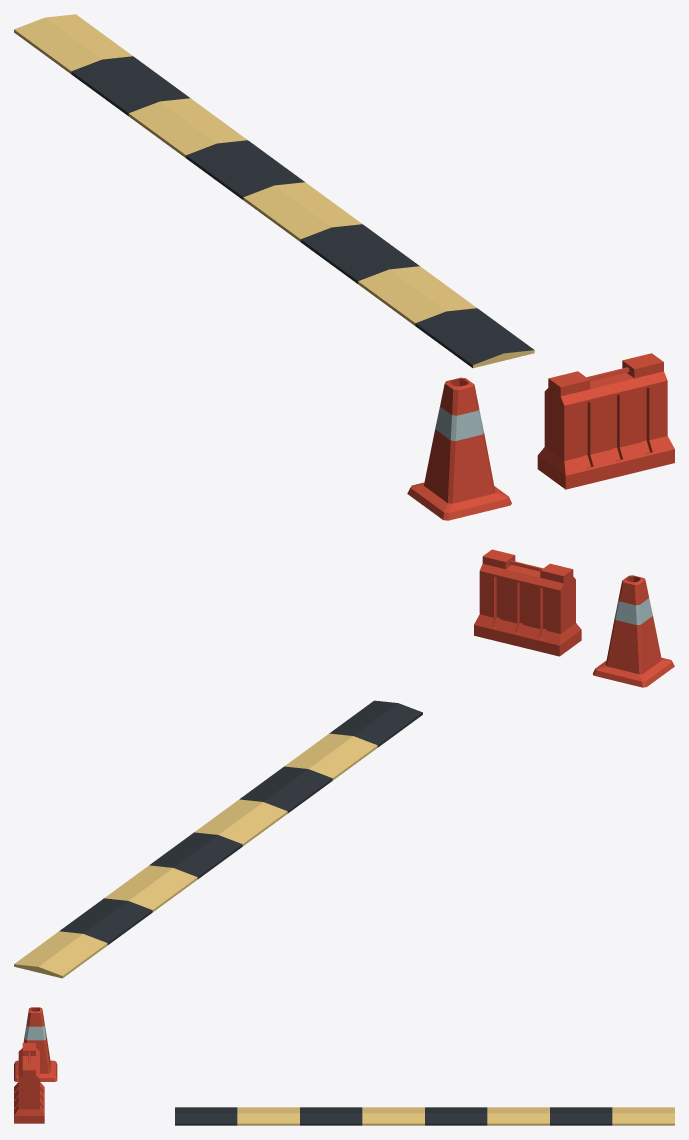
The model's file is properti jalan.fbx.
3 renders of one model, top to bottom at view 1: azimuth 30°, elevation 25°; view 2: azimuth 150°, elevation 25°; view 3: azimuth 270°, elevation 25°, orthographic. The views are drawn at different scales.
Parts seen in each view (by area): view 1: Plane.185, Plane.184, Cube.030; view 2: Plane.185, Plane.184, Cube.030; view 3: Plane.185, Plane.184, Cube.030.
Boxes of the visible parts, x1,y1,x2,y2 form: Plane.185: [14, 14, 534, 368]; Plane.184: [537, 353, 674, 489]; Cube.030: [407, 377, 511, 520]; Plane.185: [14, 700, 422, 978]; Plane.184: [474, 549, 581, 656]; Cube.030: [593, 575, 674, 687]; Plane.185: [175, 1107, 674, 1125]; Plane.184: [14, 1043, 44, 1123]; Cube.030: [14, 1007, 57, 1081].
Size of the model in its own units: 7.82 by 3.64 by 34.61.
